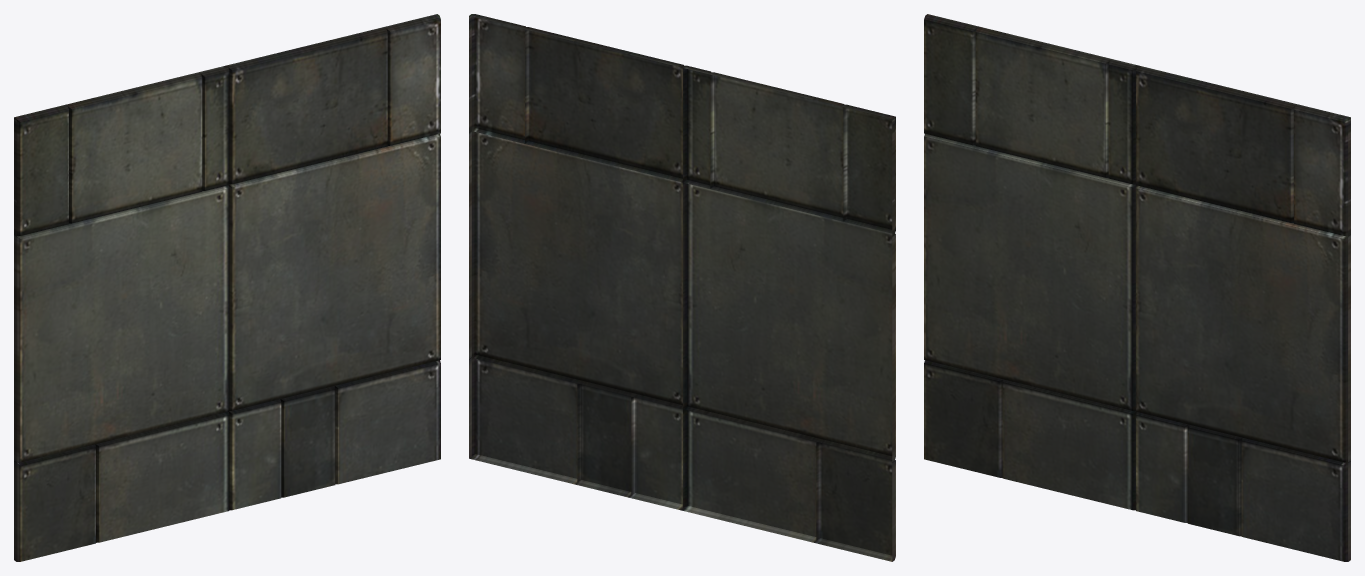
File: floor.glb
3 views of the same model, side by side, from view 1: azimuth 30°, elevation 25°; view 2: azimuth 150°, elevation 25°; view 3: azimuth 330°, elevation 25° (orthographic).
Visible parts, largest first — view 1: Object_2; view 2: Object_2, Object_3; view 3: Object_2, Object_3.
Boxes of the visible parts, <box> form: Object_2: <box>14,14,440,561</box>; Object_2: <box>469,14,895,561</box>; Object_3: <box>469,16,892,561</box>; Object_2: <box>924,14,1350,561</box>; Object_3: <box>1344,117,1350,561</box>.
Size of the model in its own units: 3 by 3 by 0.06.
1 material, 1 textured.
